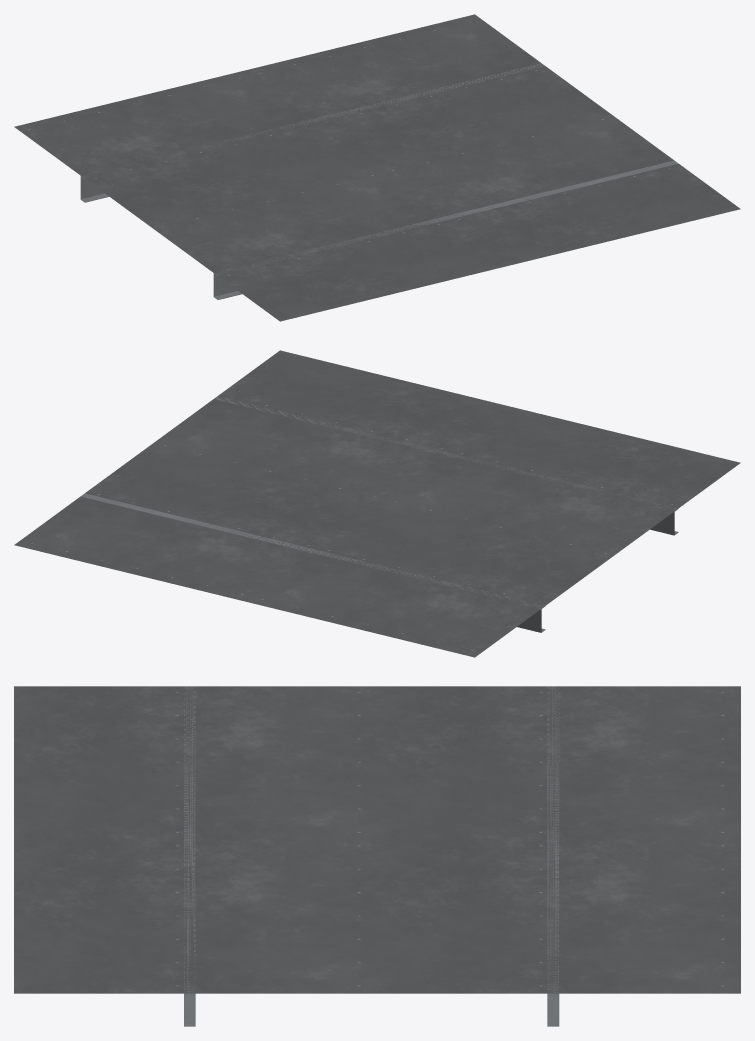
File: SM_QUE_Roof_4m.fbx
The picture shows the model from 3 angles, top to bottom: view 1: azimuth 30°, elevation 25°; view 2: azimuth 150°, elevation 25°; view 3: azimuth 270°, elevation 25°; orthographic projection. The views are drawn at different scales.
Visible parts, largest first — view 1: SM_QUE_Roof_4m; view 2: SM_QUE_Roof_4m; view 3: SM_QUE_Roof_4m.
Boxes of the visible parts, box(x1,y1,x2,y2) form: SM_QUE_Roof_4m: box(14, 14, 740, 321); SM_QUE_Roof_4m: box(14, 350, 740, 657); SM_QUE_Roof_4m: box(14, 686, 740, 1026).
Size of the model in its own units: 4 by 0.2 by 4.
